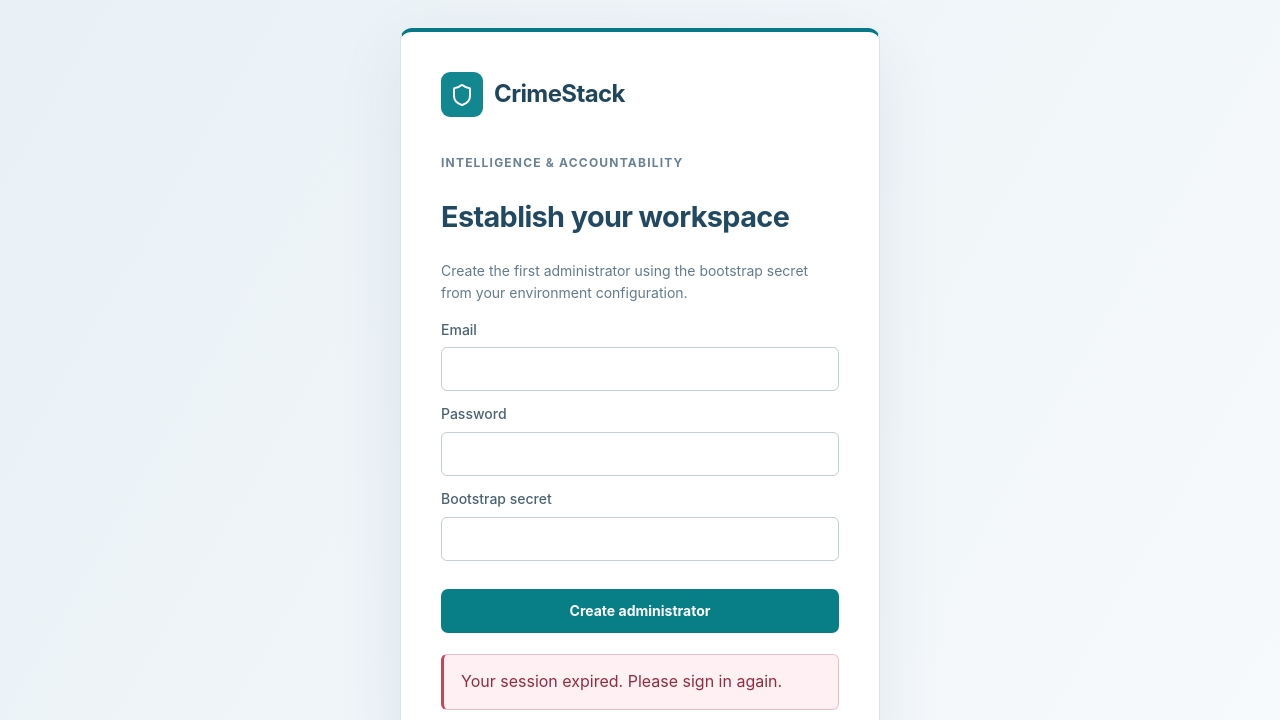
Test case: renders bootstrap form and submits credentials contract
Expected: the button "Create administrator" is shown, [441, 589, 839, 633]
Type "test@example.test" into the field labelled "Email" at (640, 369), box [441, 347, 839, 391]
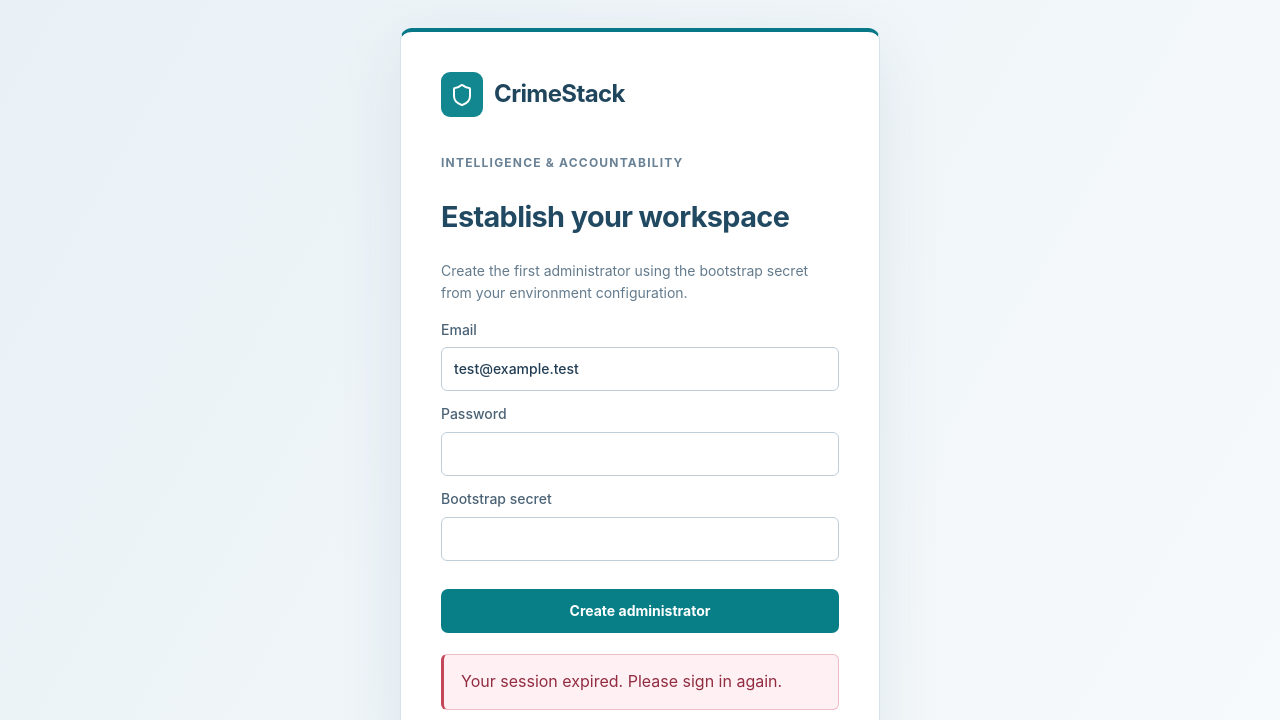
Type "test-password-123" into the password field labelled "Password" at (640, 454), box [441, 432, 839, 476]
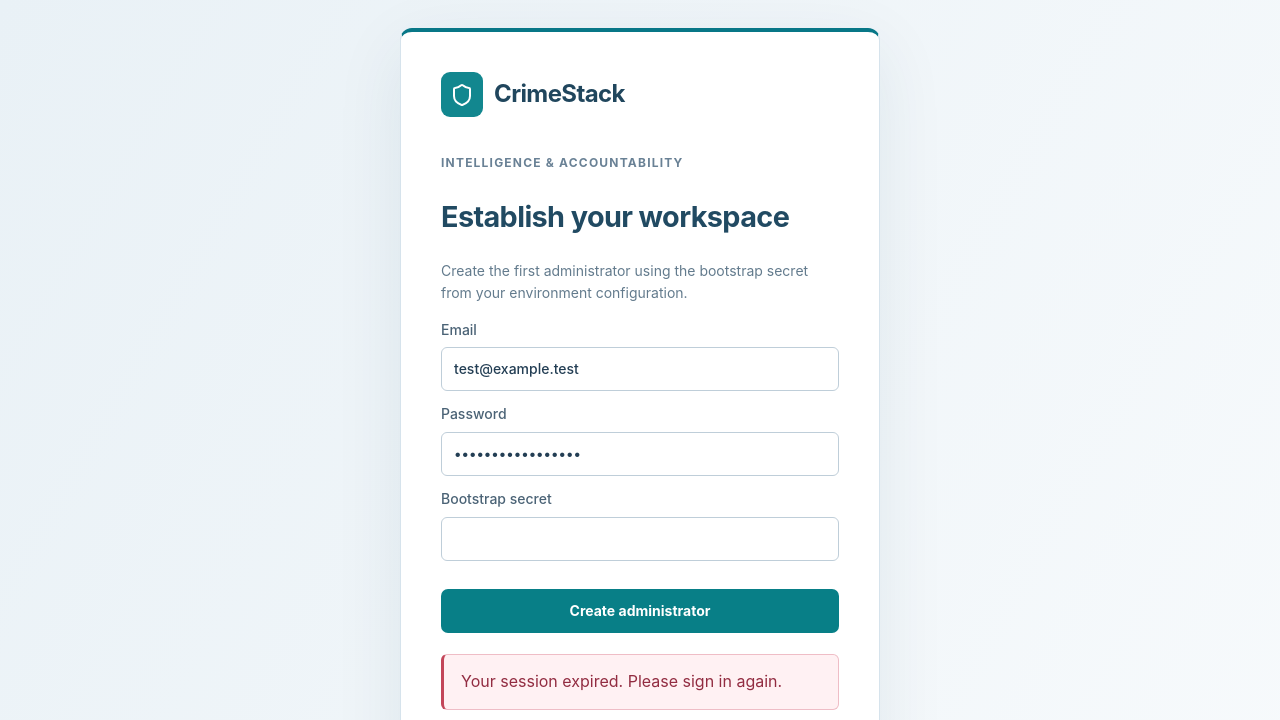
Type "test-secret" into the password field labelled "Bootstrap secret" at (640, 539), box [441, 516, 839, 561]
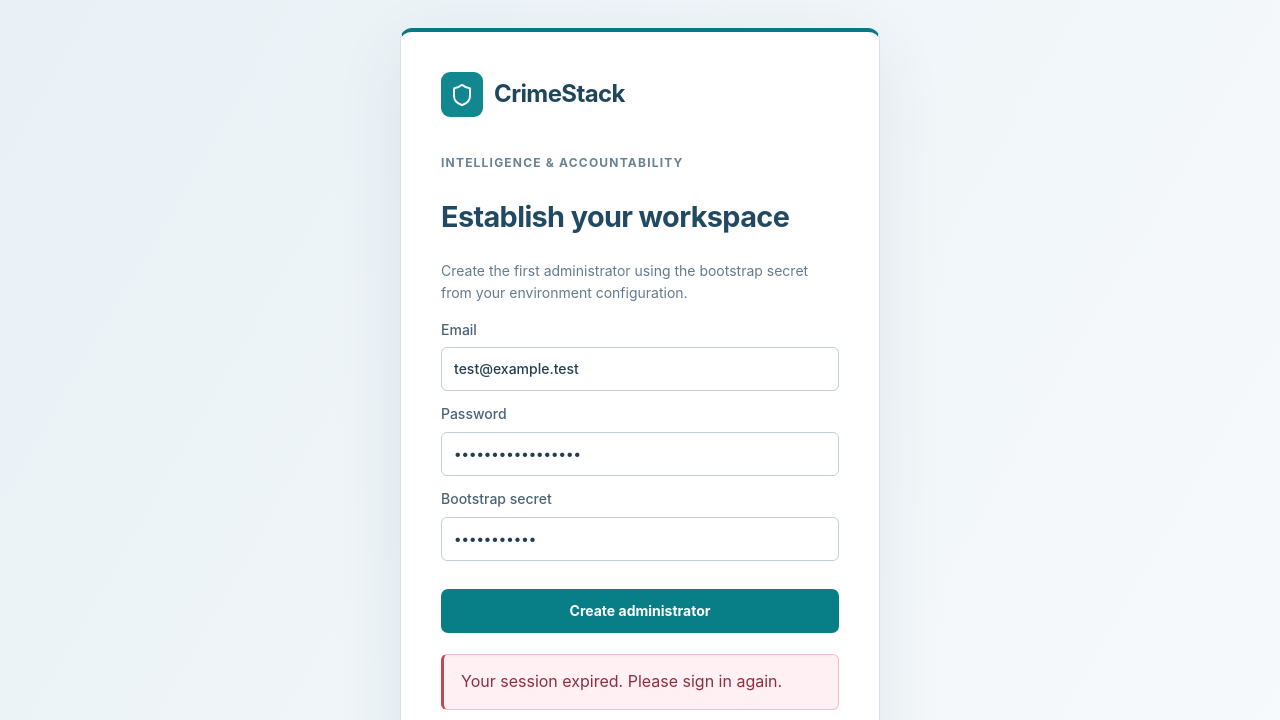
Click the button "Create administrator" at (640, 611), box [441, 589, 839, 633]
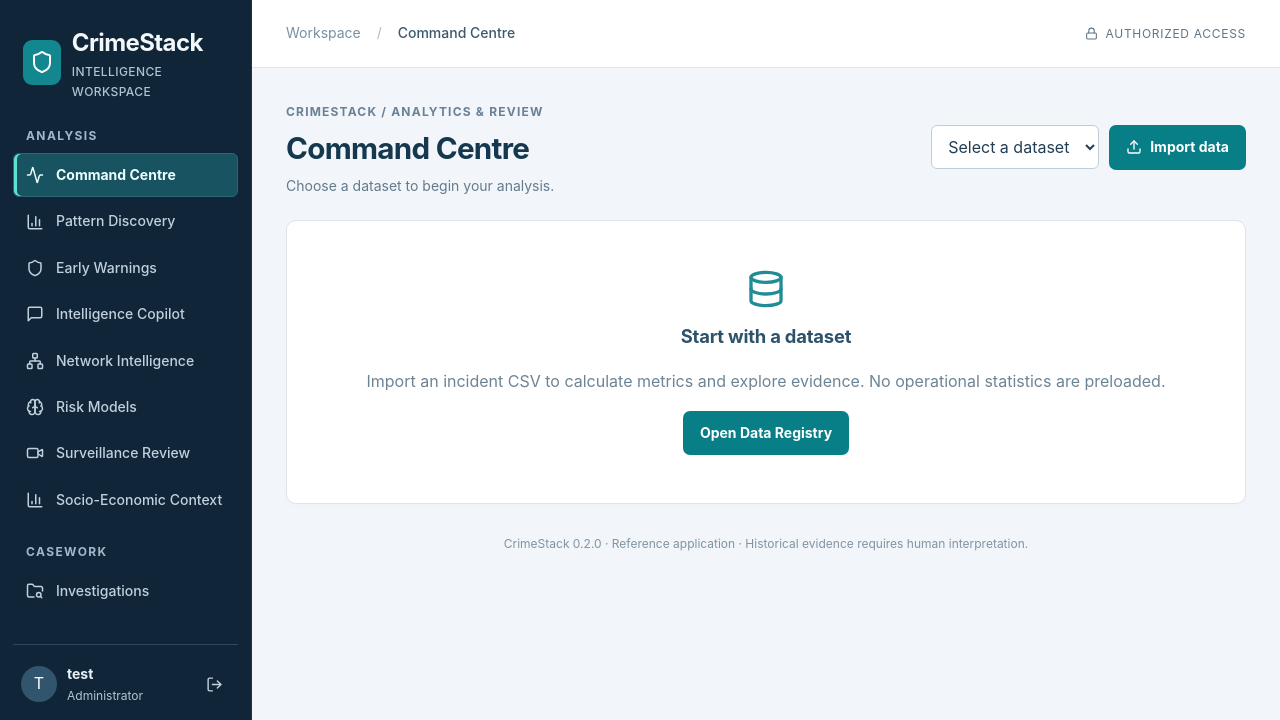
Expected: the navigation bar is shown, [13, 123, 238, 628]
